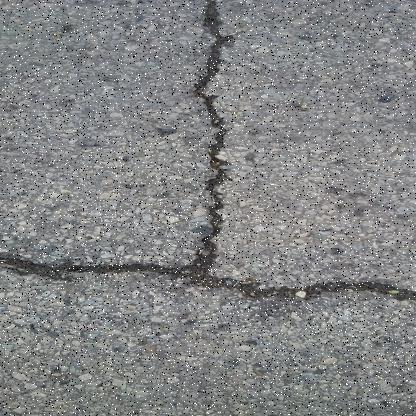Cracks: (0, 246, 416, 309), (170, 0, 255, 295)
